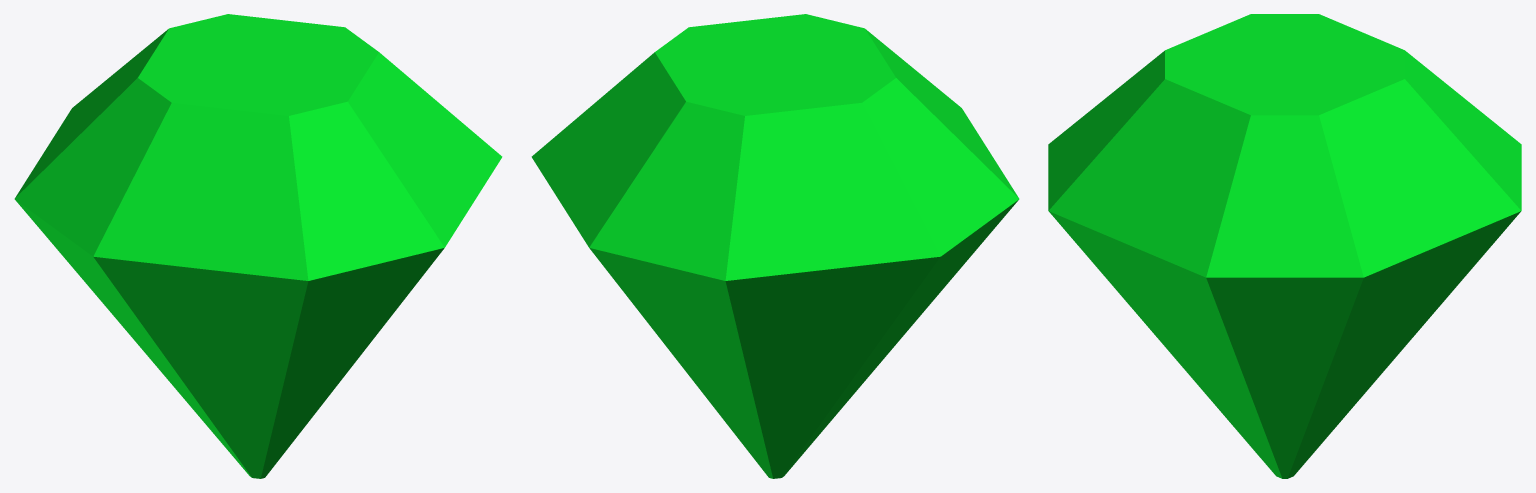
Rendered from Emerald.fbx.
The picture shows the model from 3 angles, left to right: view 1: azimuth 30°, elevation 25°; view 2: azimuth 150°, elevation 25°; view 3: azimuth 270°, elevation 25°; orthographic projection.
Visible parts, largest first — view 1: Emerald; view 2: Emerald; view 3: Emerald.
Part boxes in pixels (x1,y1,x2,y2): Emerald: (14, 14, 502, 478); Emerald: (531, 14, 1019, 478); Emerald: (1048, 14, 1521, 478).
Size of the model in its own units: 0.8659 by 0.8659 by 0.8292.
